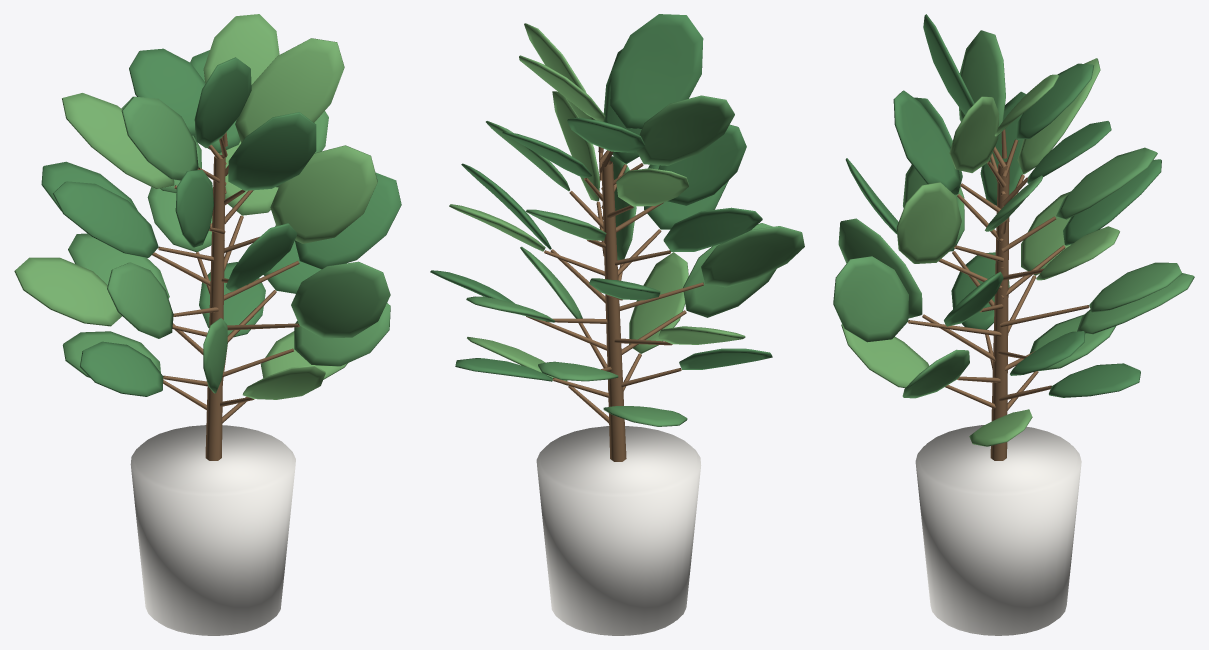
The model's file is plant-tall.glb.
3 views of the same model, side by side, from view 1: azimuth 30°, elevation 25°; view 2: azimuth 150°, elevation 25°; view 3: azimuth 270°, elevation 25° (orthographic).
Visible parts, largest first — view 1: plant-tall; view 2: plant-tall; view 3: plant-tall.
Part boxes in pixels (left/top/right/bottom): plant-tall: left=14, top=14, right=401, bottom=635; plant-tall: left=430, top=14, right=804, bottom=635; plant-tall: left=833, top=14, right=1194, bottom=635.
Size of the model in its own units: 0.7303 by 1.23 by 0.6934.
